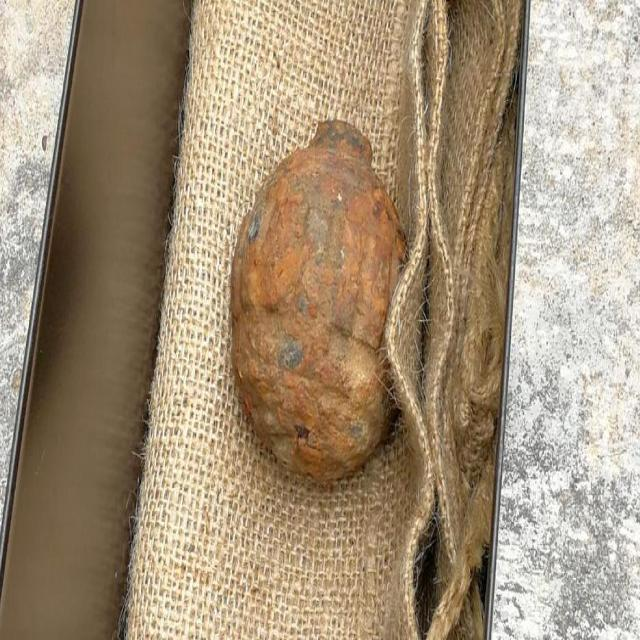grenade: (231, 117, 413, 488)
